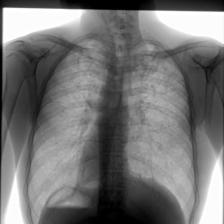tuberculosis: (20, 29, 204, 224)
